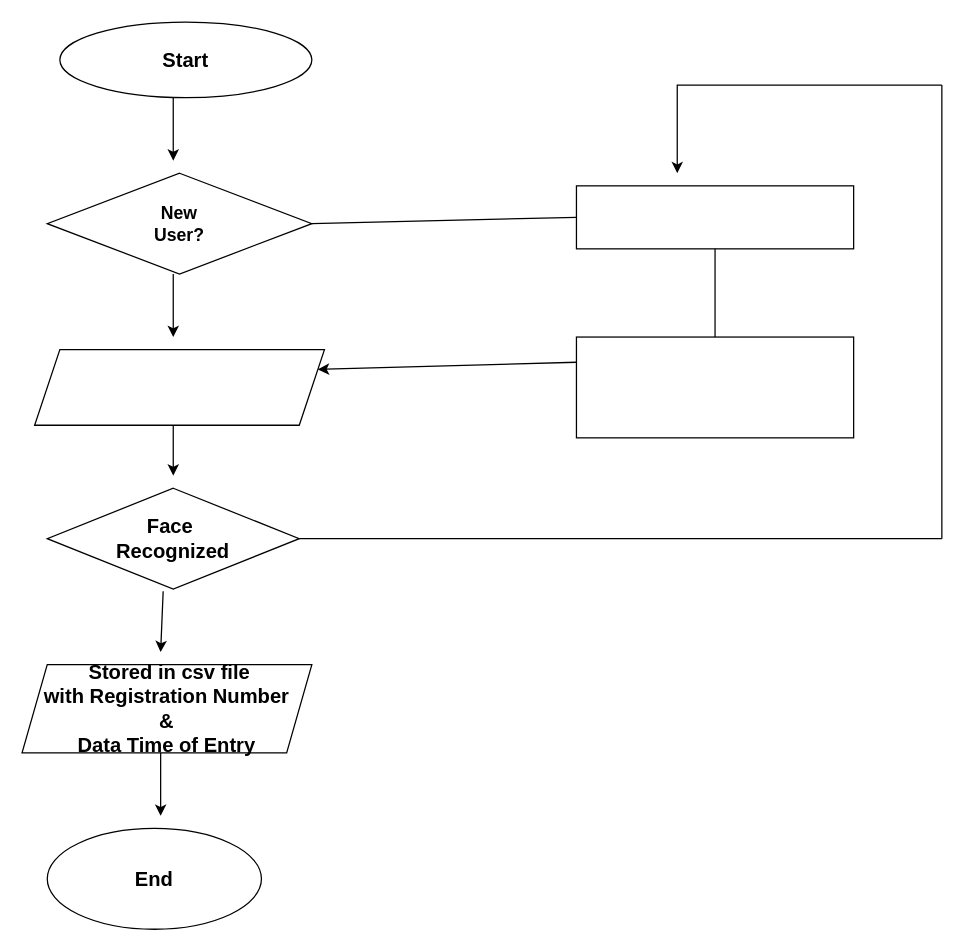
This 974x951 diagram has some shape labels left out. Each missing label, with the centre of its shape:
"Give your photography" belongs at point (714, 217).
"Reciognize the face" belongs at point (178, 386).
